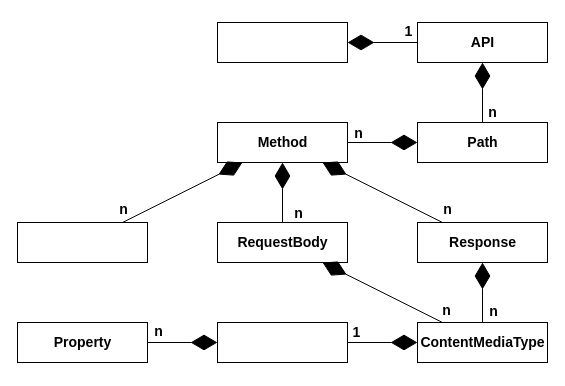
Some shapes in this 565 by 386 pixel diagram are drawn without their labels. The centre of each missing label's shape, as x and y in pixels:
DataModel: the point at 282,342
Parameter: the point at 82,242
SpecificationFile: the point at 282,42
